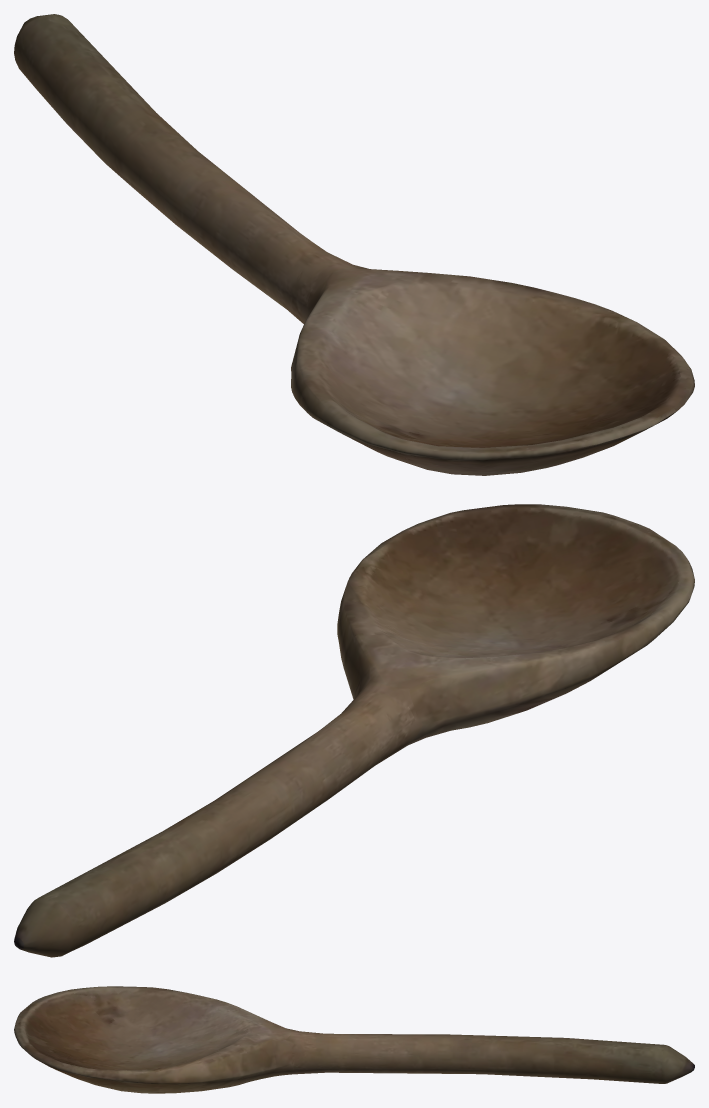
File: wooden_spoon.glb
The picture shows the model from 3 angles, top to bottom: view 1: azimuth 30°, elevation 25°; view 2: azimuth 150°, elevation 25°; view 3: azimuth 270°, elevation 25°; orthographic projection. The views are drawn at different scales.
Visible parts, largest first — view 1: wooden_spoon; view 2: wooden_spoon; view 3: wooden_spoon.
Boxes of the visible parts, left/top/right/bottom form: wooden_spoon: left=14, top=14, right=694, bottom=475; wooden_spoon: left=14, top=504, right=694, bottom=957; wooden_spoon: left=14, top=986, right=694, bottom=1093.
Size of the model in its own units: 0.0865 by 0.025 by 0.2776.
Materials: 1 (1 with a texture image).
